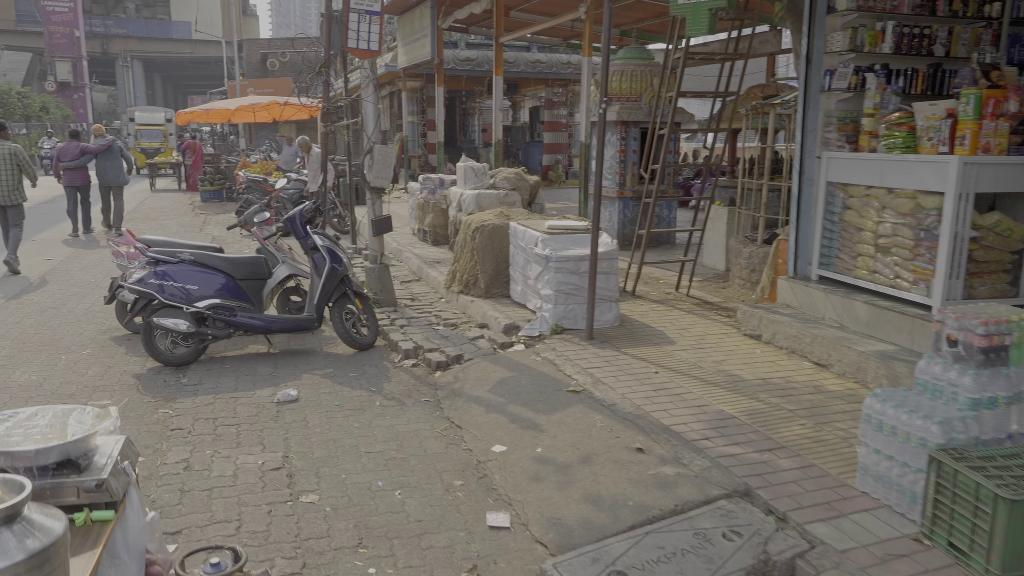garbage: (485, 506, 517, 532), (272, 387, 303, 403), (490, 443, 508, 456)
